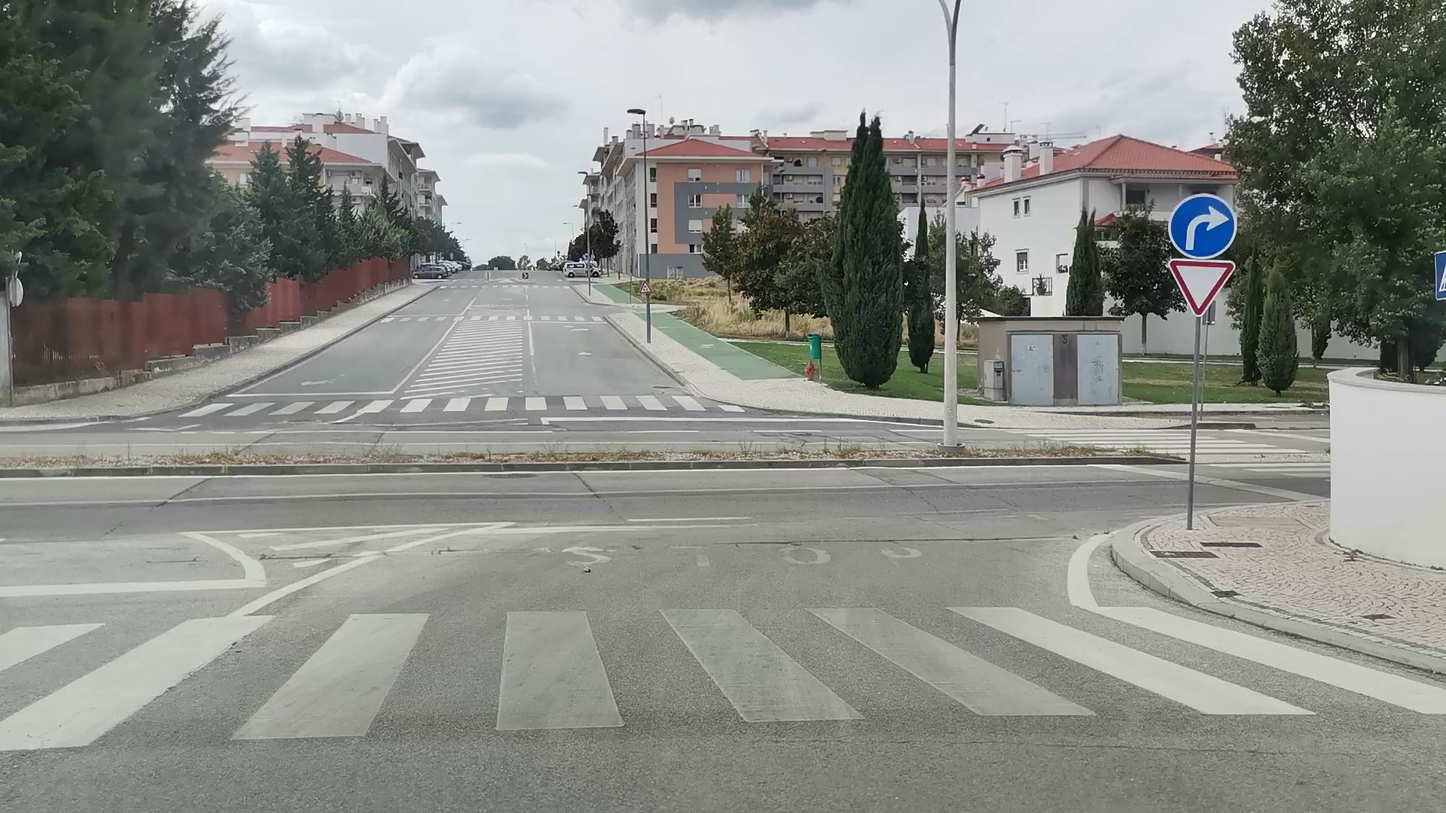Stairs: (0, 605, 1446, 752)
